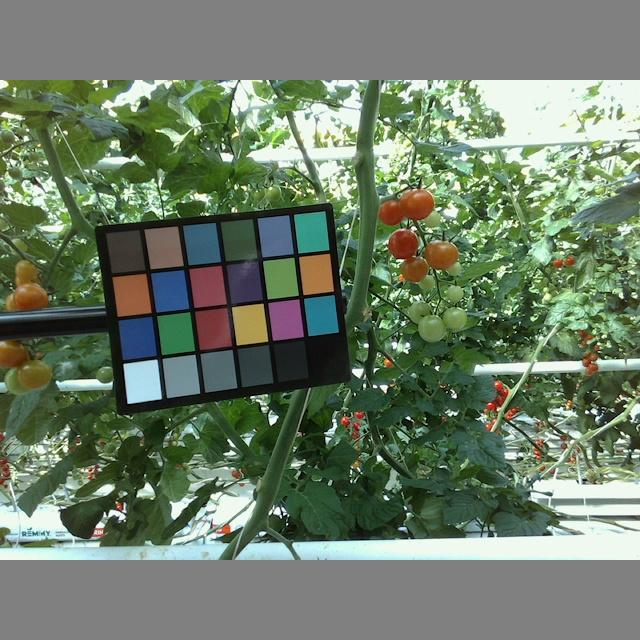green: (15, 361, 51, 389), (416, 313, 446, 342), (439, 306, 467, 333), (408, 299, 432, 328), (444, 285, 463, 304), (418, 273, 434, 292)
pink: (398, 188, 434, 220), (11, 281, 49, 311), (424, 240, 459, 272), (399, 252, 429, 284), (385, 229, 418, 257), (378, 199, 408, 224), (1, 341, 27, 369), (13, 258, 39, 281)
